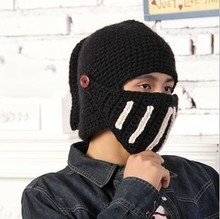face_mask: (121, 65, 175, 153)
